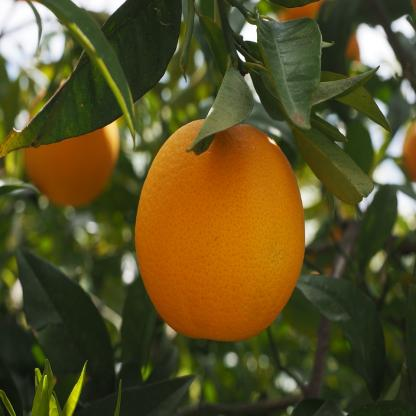orange: (129, 116, 311, 346), (18, 74, 129, 212)
